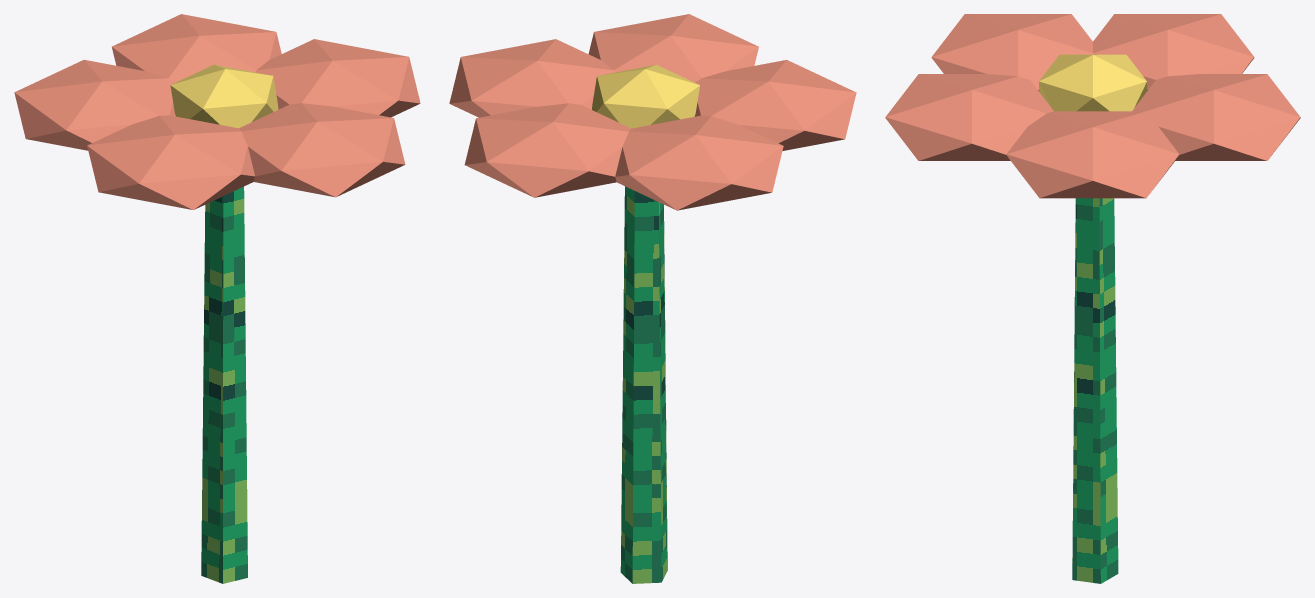
Rendered from a06_flor_grande_1.glb.
3 views of the same model, side by side, from view 1: azimuth 30°, elevation 25°; view 2: azimuth 150°, elevation 25°; view 3: azimuth 270°, elevation 25° (orthographic). The views are drawn at different scales.
Parts seen in each view (by area): view 1: a06_flor_grande_1; view 2: a06_flor_grande_1; view 3: a06_flor_grande_1.
Boxes of the visible parts, left/top/right/bottom form: a06_flor_grande_1: left=14, top=14, right=420, bottom=583; a06_flor_grande_1: left=449, top=14, right=856, bottom=583; a06_flor_grande_1: left=885, top=14, right=1300, bottom=583.
Bounding box in the file's own units: 1.62 × 2.25 × 1.63.
3 materials, 1 textured.
